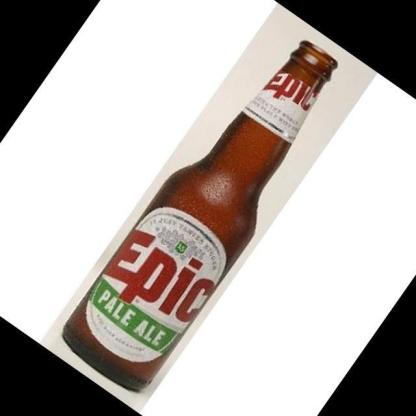Can: (40, 3, 376, 410)
